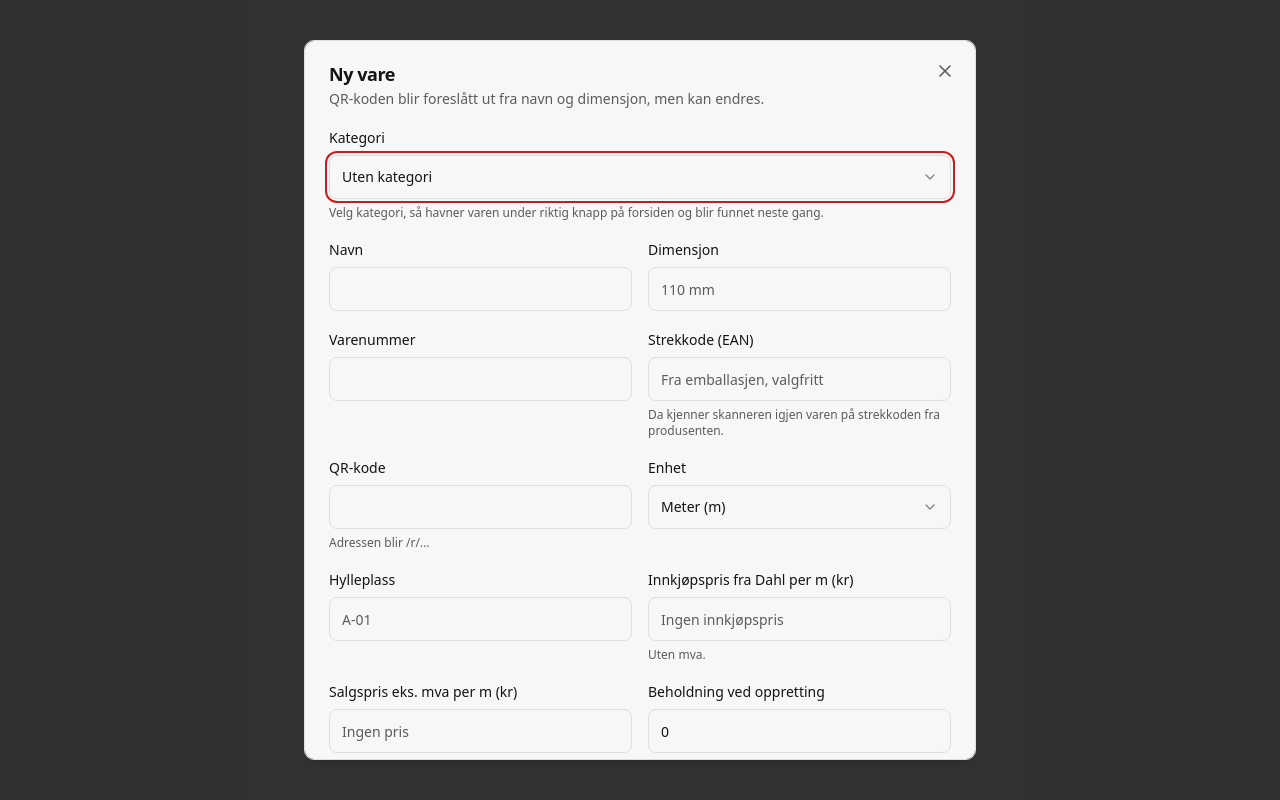
Test: ny vare med innkjøpspris › får salgsprisen regnet ut med avansen
This screenshot has width=1280, height=800.
Type "63,70" into the field labelled "Innkjøpspris fra Dahl per m (kr)" at (800, 619), box [648, 597, 951, 641]
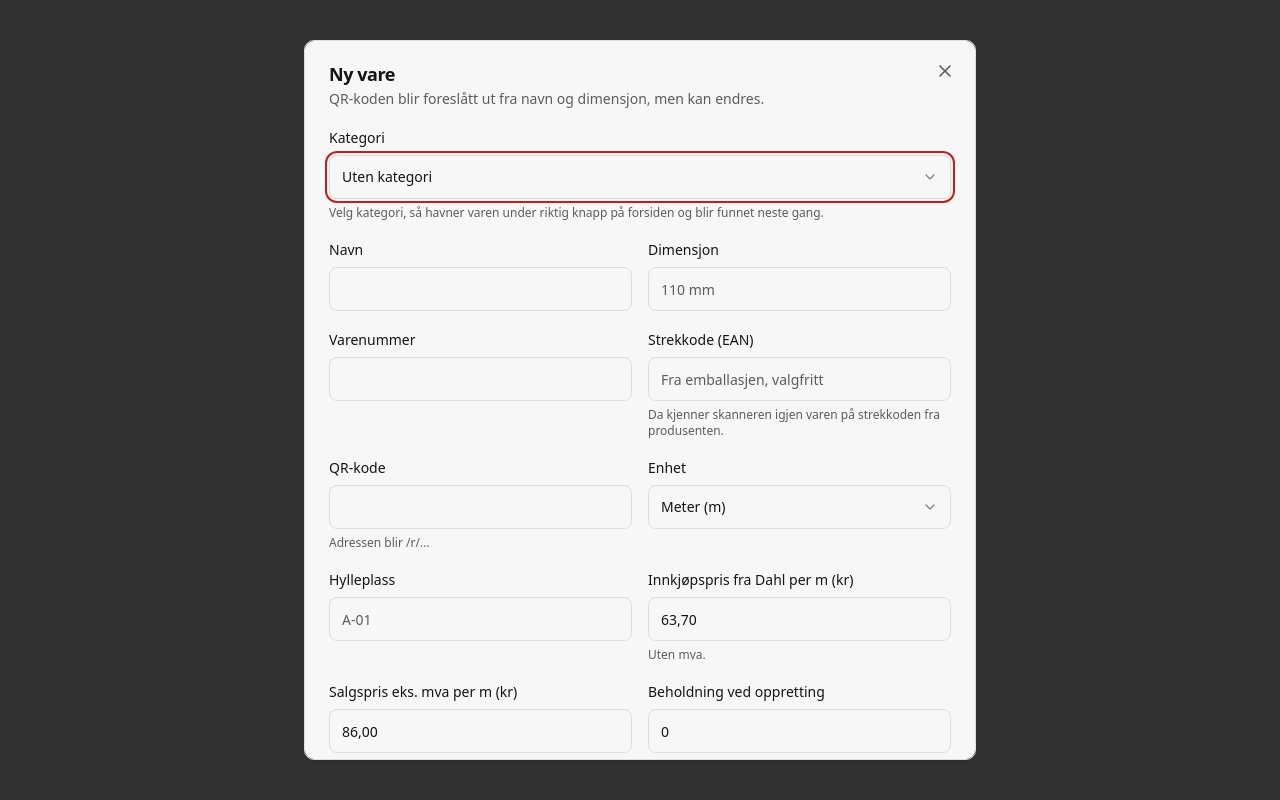
Result: the field labelled "Salgspris eks. mva per m (kr)" holds "86,00" at [329, 709, 632, 753]
